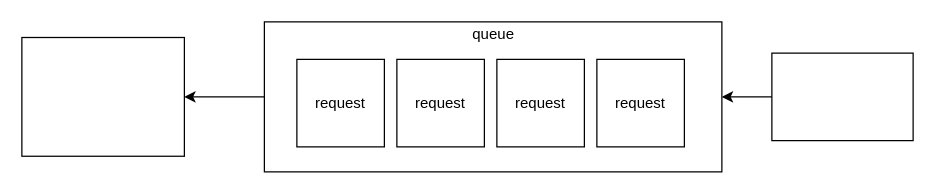
This 935x194 diagram has some shape labels left out. Each missing label, with the box of its shape:
gRPC server: (21, 36, 184, 156)
HTTP server: (771, 52, 913, 141)
